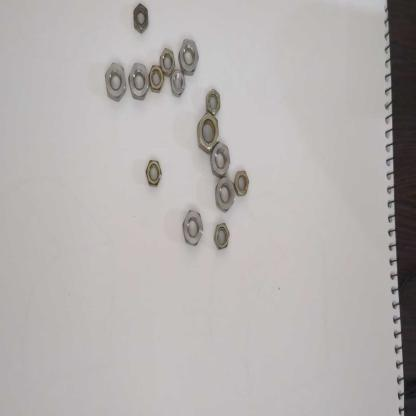NUTS: (196, 111, 222, 153), (176, 36, 202, 77), (103, 60, 128, 101), (128, 60, 150, 104), (214, 173, 237, 213), (182, 208, 206, 246), (208, 142, 232, 178), (210, 221, 232, 256), (203, 87, 225, 120), (146, 155, 162, 194), (131, 2, 150, 34), (232, 169, 252, 198), (159, 46, 176, 80), (147, 63, 163, 97), (170, 68, 188, 96)
